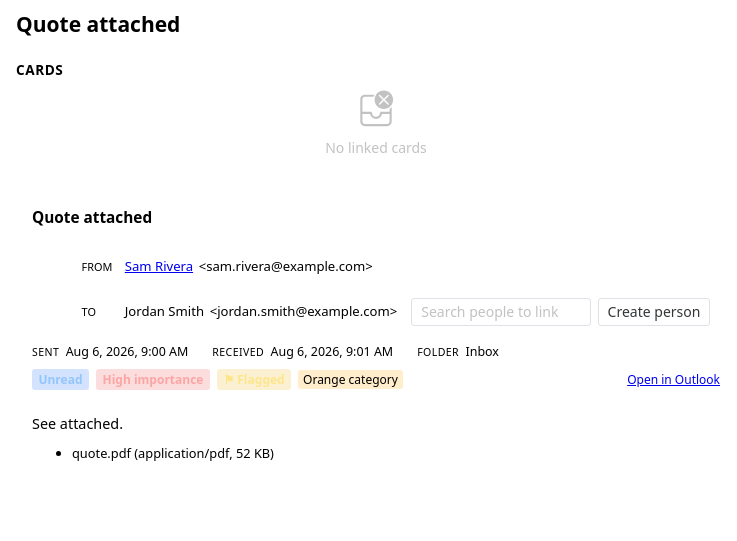
it: EmailConversationPage — link/create controls (US4) › searches GET /api/people?q= after a debounce and renders "First Last — email" result rows
The width and height of the screenshot is (737, 541).
Step 1. Type "jordan" into the field labelled "Search people to link" → (501, 312), box x1=421 y1=298 x2=581 y2=326
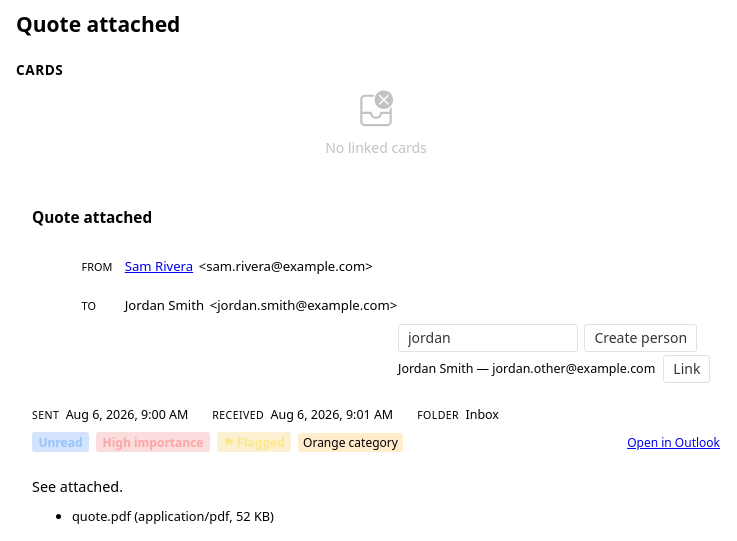
Expected: the list item with test id "search-result" shows "Jordan Smith", x1=398 y1=360 x2=655 y2=377
Expected: the list item with test id "search-result" shows "jordan.other@example.com", x1=398 y1=360 x2=655 y2=377
